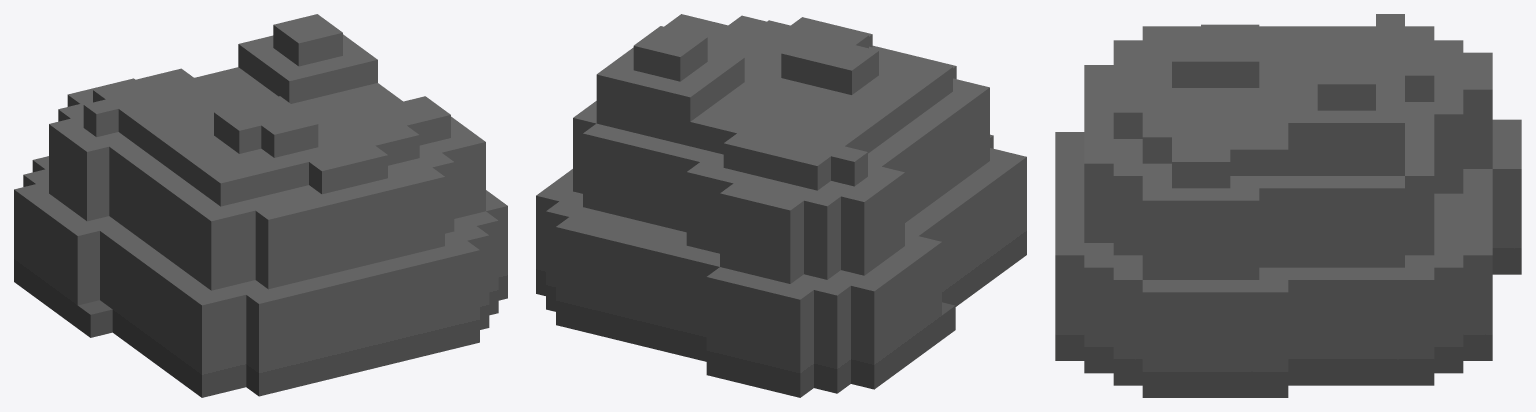
Rendered from rock_big.fbx.
3 renders of one model, left to right at view 1: azimuth 30°, elevation 25°; view 2: azimuth 150°, elevation 25°; view 3: azimuth 270°, elevation 25°, orthographic. The views are drawn at different scales.
Parts seen in each view (by area): view 1: rock_big; view 2: rock_big; view 3: rock_big.
Boxes of the visible parts, x1=… form: rock_big: x1=14, y1=14, x2=507, y2=397; rock_big: x1=536, y1=14, x2=1026, y2=397; rock_big: x1=1055, y1=14, x2=1521, y2=397.
Size of the model in its own units: 144 by 89.81 by 144.
1 material, 1 textured.
